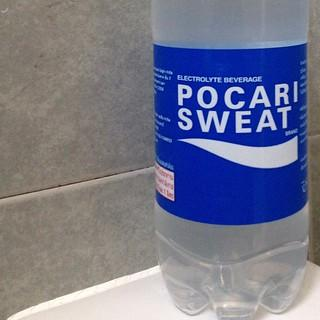bottle: (147, 0, 318, 320)
